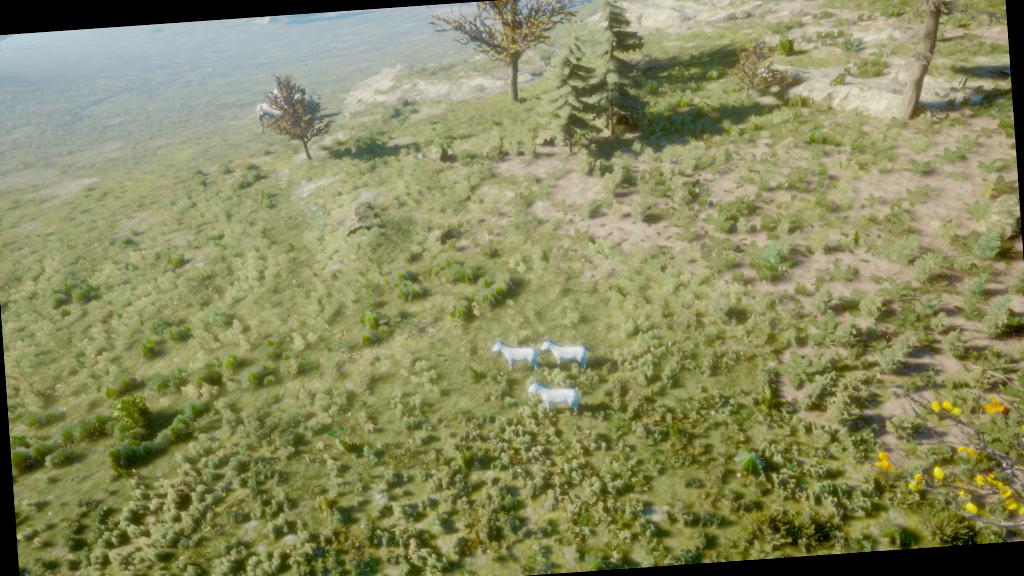elephant: (254, 100, 286, 126)
zebra: (528, 378, 584, 420), (540, 336, 592, 372), (490, 338, 540, 374)
